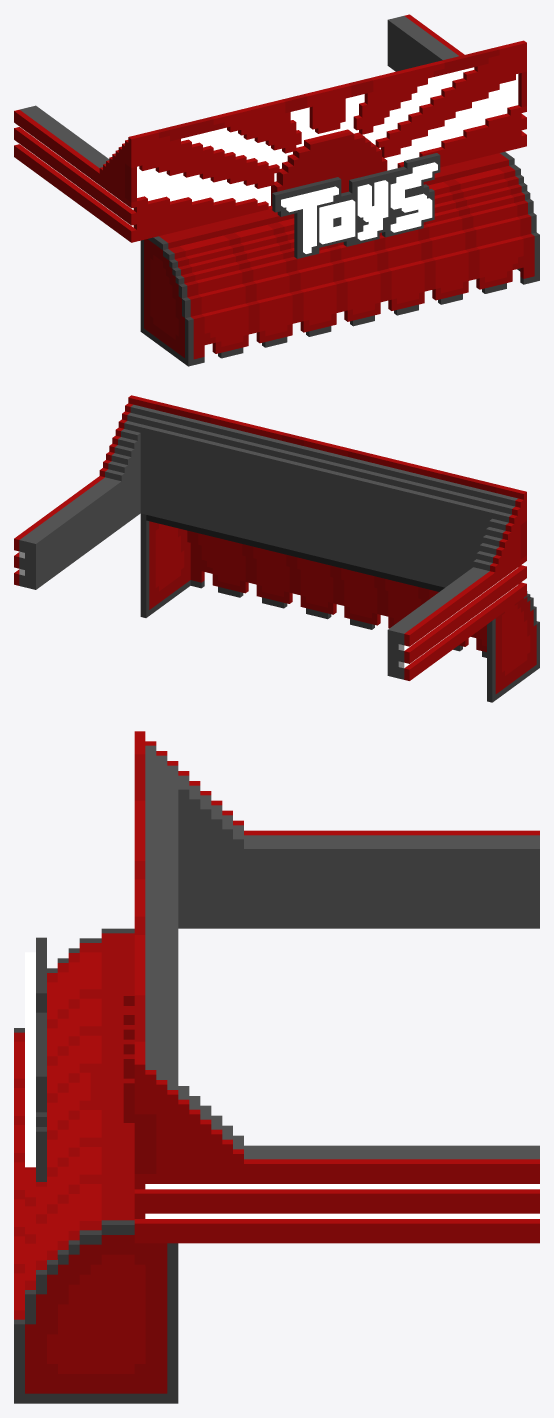
File: toysShop.glb
3 renders of one model, top to bottom at view 1: azimuth 30°, elevation 25°; view 2: azimuth 150°, elevation 25°; view 3: azimuth 270°, elevation 25°, orthographic. The views are drawn at different scales.
Parts seen in each view (by area): view 1: ObjObject; view 2: ObjObject; view 3: ObjObject.
Part boxes in pixels (bbox=[...]): ObjObject: bbox=[14, 14, 539, 366]; ObjObject: bbox=[14, 395, 539, 702]; ObjObject: bbox=[14, 731, 539, 1403].
Bounding box in the file's own units: 7.2 × 3.6 × 4.8.
2 materials, 1 textured.
